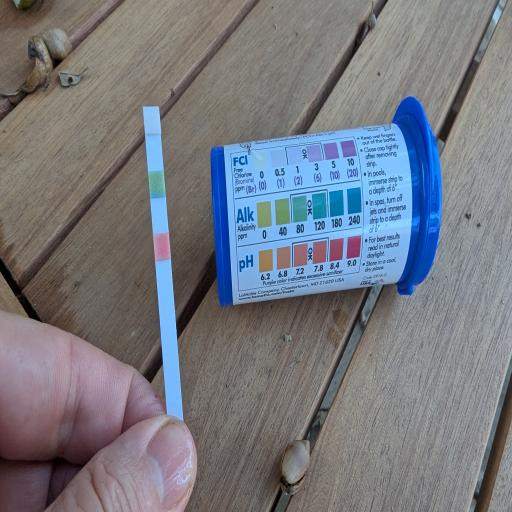label: (222, 119, 414, 309)
strip: (143, 105, 185, 422)
